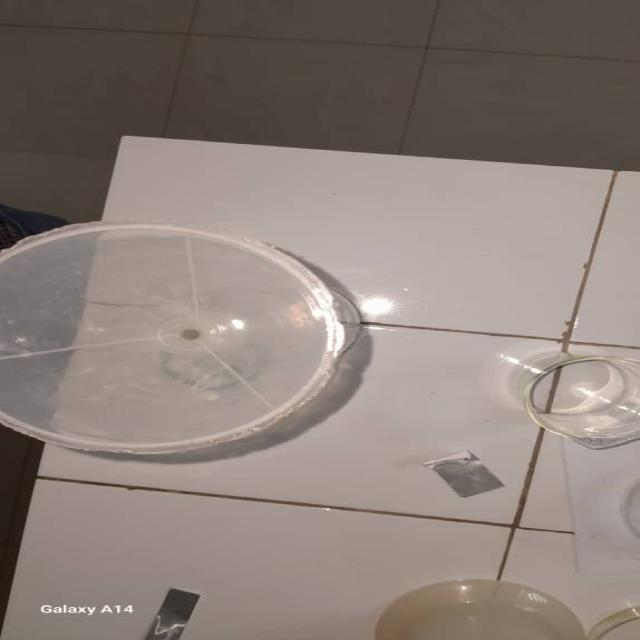Funnel: (4, 219, 348, 463)
